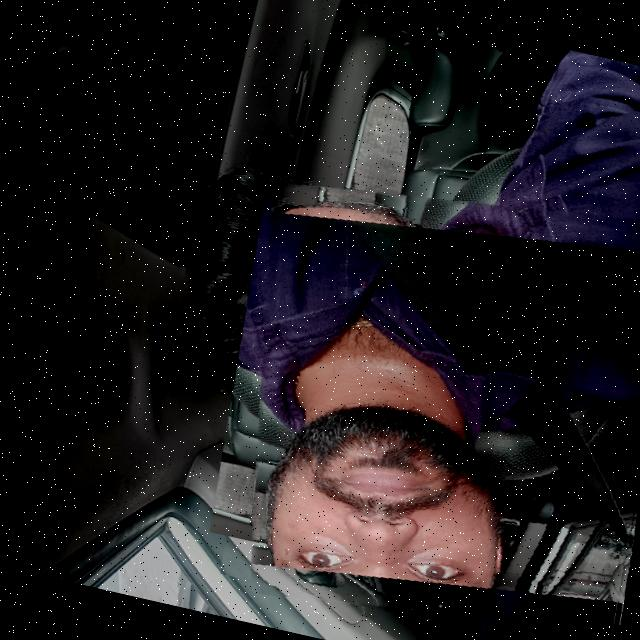seatbelt: (189, 147, 640, 640)
